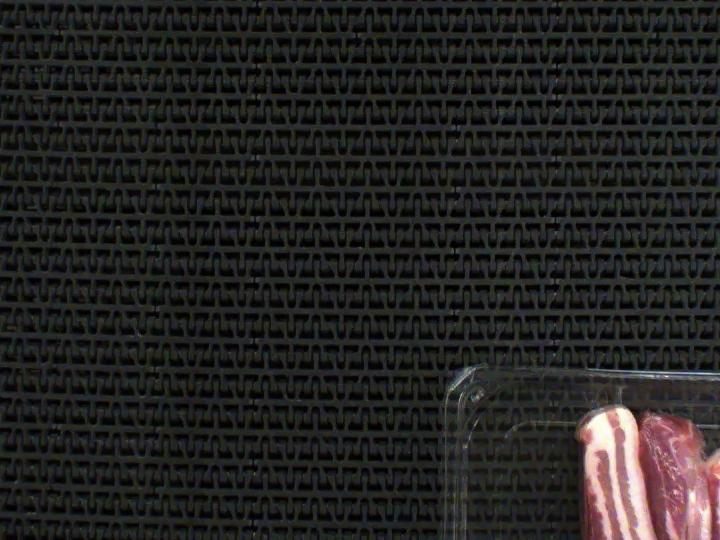packaging-error: (601, 381, 632, 412)
